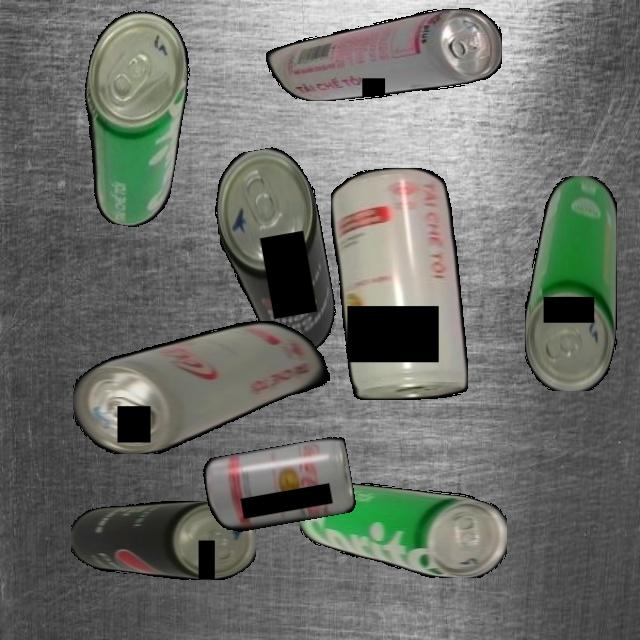debris: (73, 320, 341, 454), (331, 167, 468, 401), (63, 4, 200, 232), (206, 142, 342, 364), (265, 8, 502, 101), (524, 175, 617, 391), (298, 483, 507, 578), (201, 435, 357, 536), (70, 501, 256, 580)
